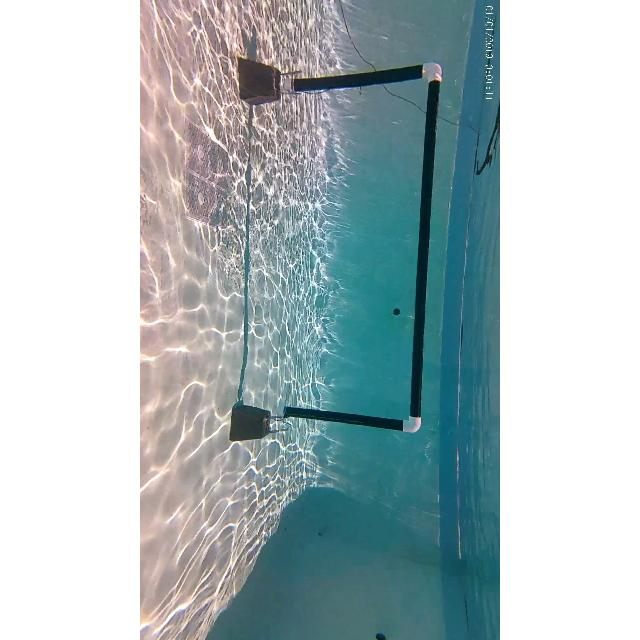prequal gate: (275, 62, 441, 432)
prequal gate leg l: (266, 55, 444, 99)
prequal gate leg r: (257, 394, 429, 446)
